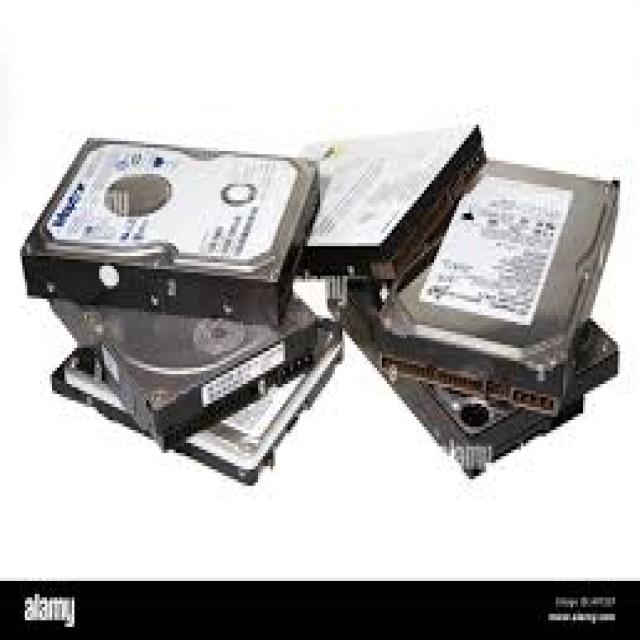Hazard: (31, 117, 630, 515)
